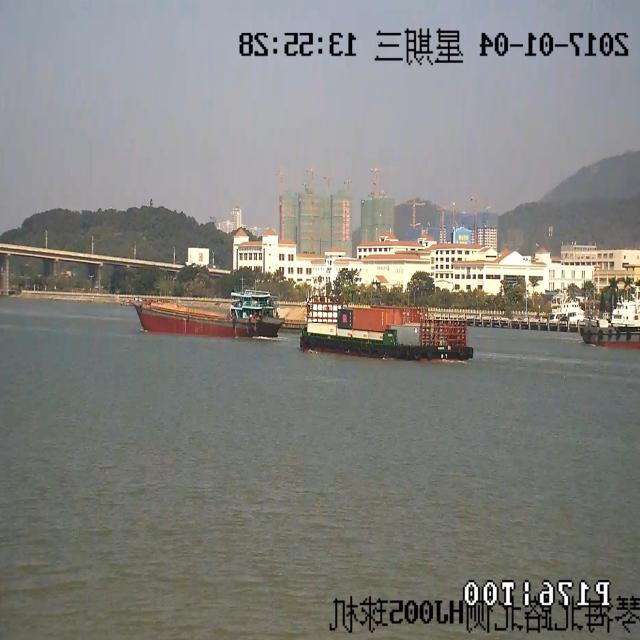cargoship: (304, 286, 475, 378), (134, 279, 292, 337), (579, 277, 640, 362)
